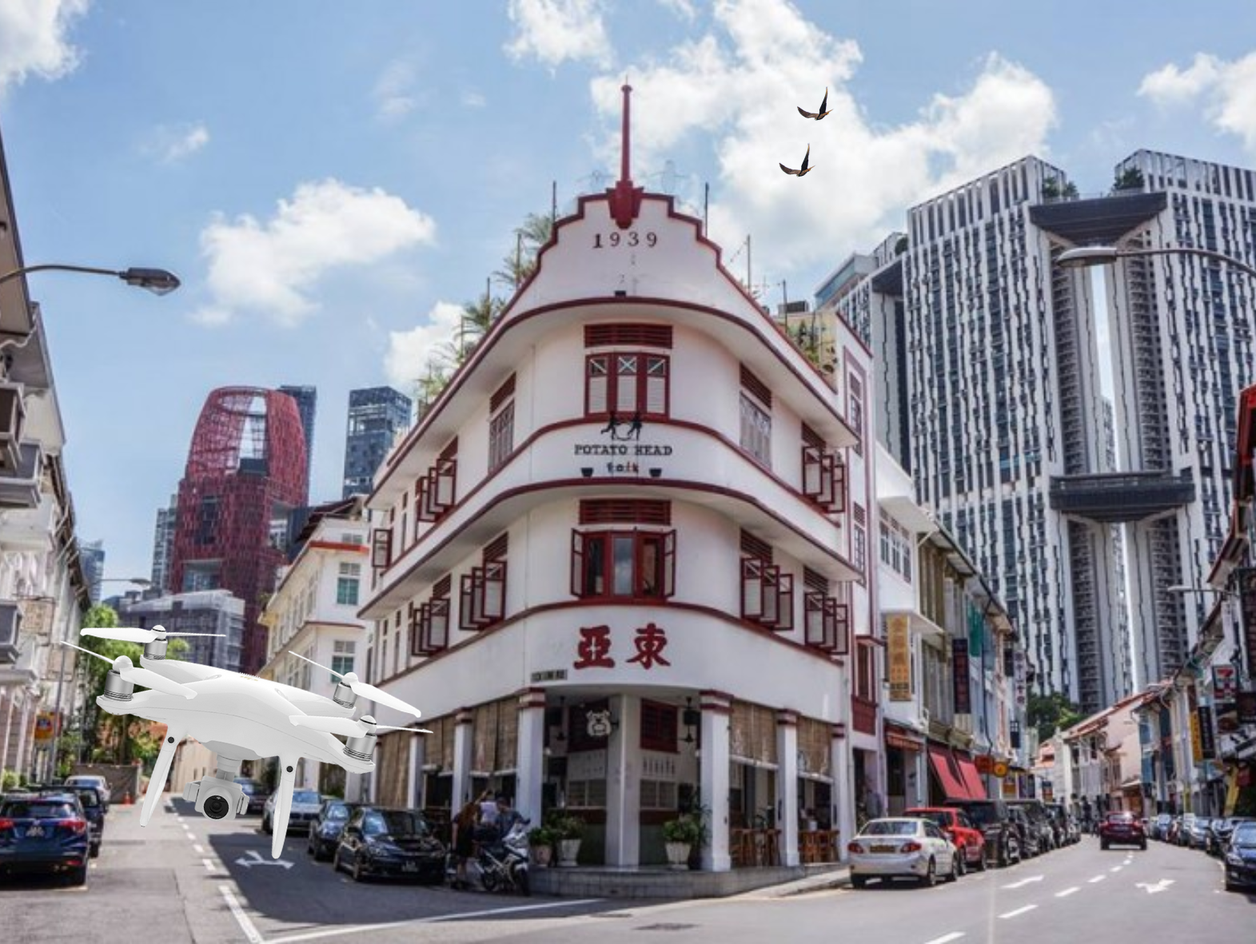drone_other: (60, 620, 430, 857)
